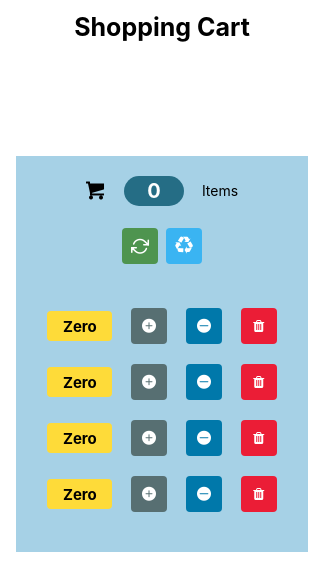
Test: App Component › should display the items present in cart zero when reset button is pressed
Click the element with test id "add-item-1": (149, 326) [131,308,167,344]
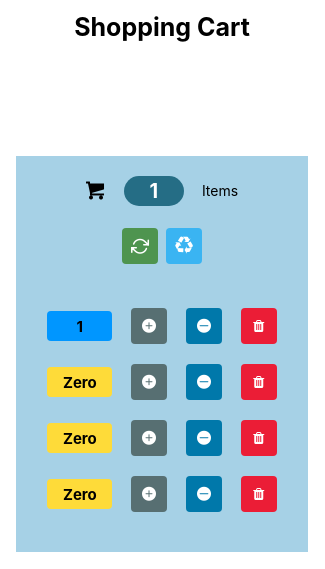
Expected: the text with test id "items-in-cart" reads "1", [150,179,158,203]
Click the element with test id "resetBtn": (140, 246) [122,228,158,264]
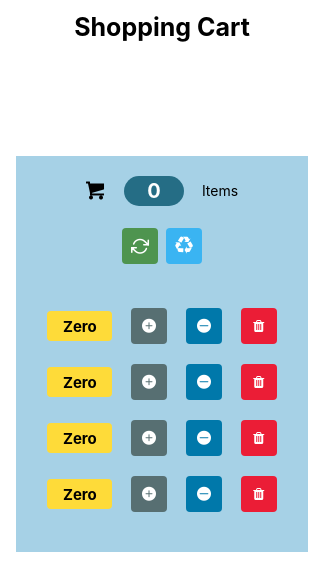
Expected: the text "0" is shown, [147,179,161,203]
